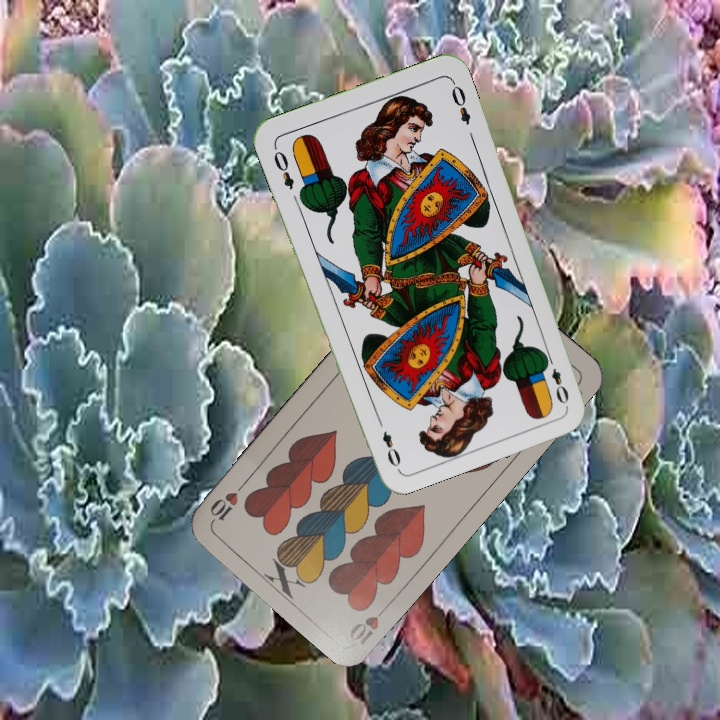EO: (540, 350, 572, 407), (269, 142, 297, 192)
H10: (345, 598, 394, 647)
